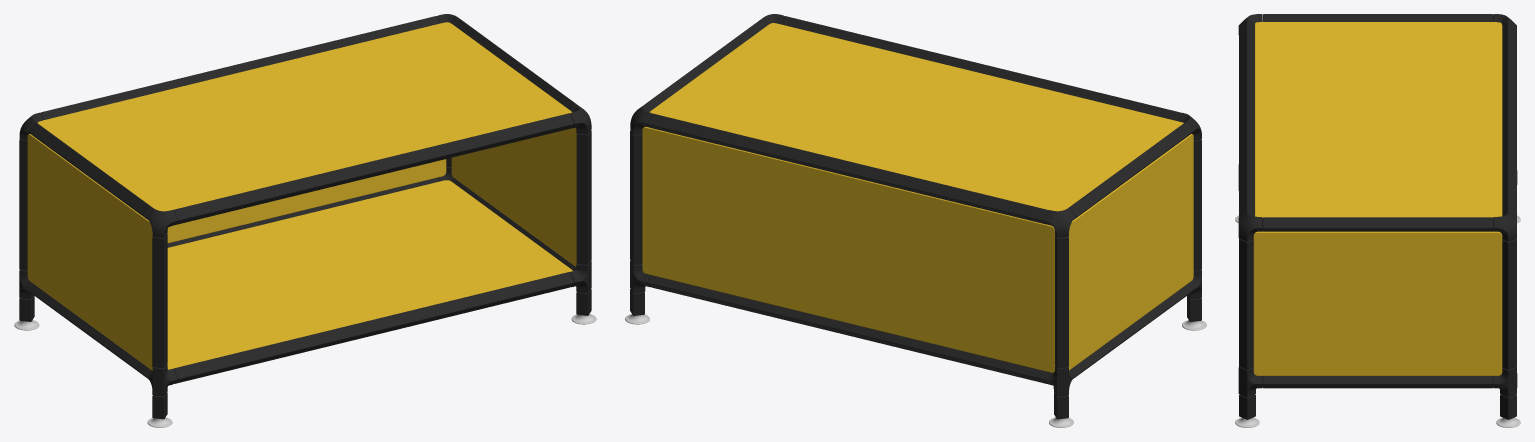
3 renders of one model, left to right at view 1: azimuth 30°, elevation 25°; view 2: azimuth 150°, elevation 25°; view 3: azimuth 270°, elevation 25°, orthographic.
Visible parts, largest first — view 1: 729x374x229; view 2: 729x374x229; view 3: 729x374x229.
Part boxes in pixels (x1,y1,x2,y2): 729x374x229: (14,14,596,427); 729x374x229: (625,14,1206,427); 729x374x229: (1235,14,1520,427).
Bounding box in the file's own units: 0.8189 × 0.3683 × 0.4632.
